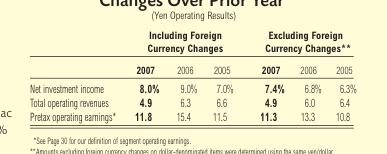table: (29, 28, 356, 122)
table column: (29, 28, 124, 122), (246, 28, 291, 122), (124, 28, 167, 122), (204, 28, 246, 122), (167, 28, 204, 122), (291, 28, 328, 122), (328, 28, 356, 122)
table column header: (29, 28, 356, 78)
table row: (29, 28, 356, 58), (29, 58, 356, 78), (29, 78, 356, 95), (29, 95, 356, 109), (29, 109, 356, 122)
table spanning cell: (124, 28, 246, 58), (246, 28, 356, 58)
